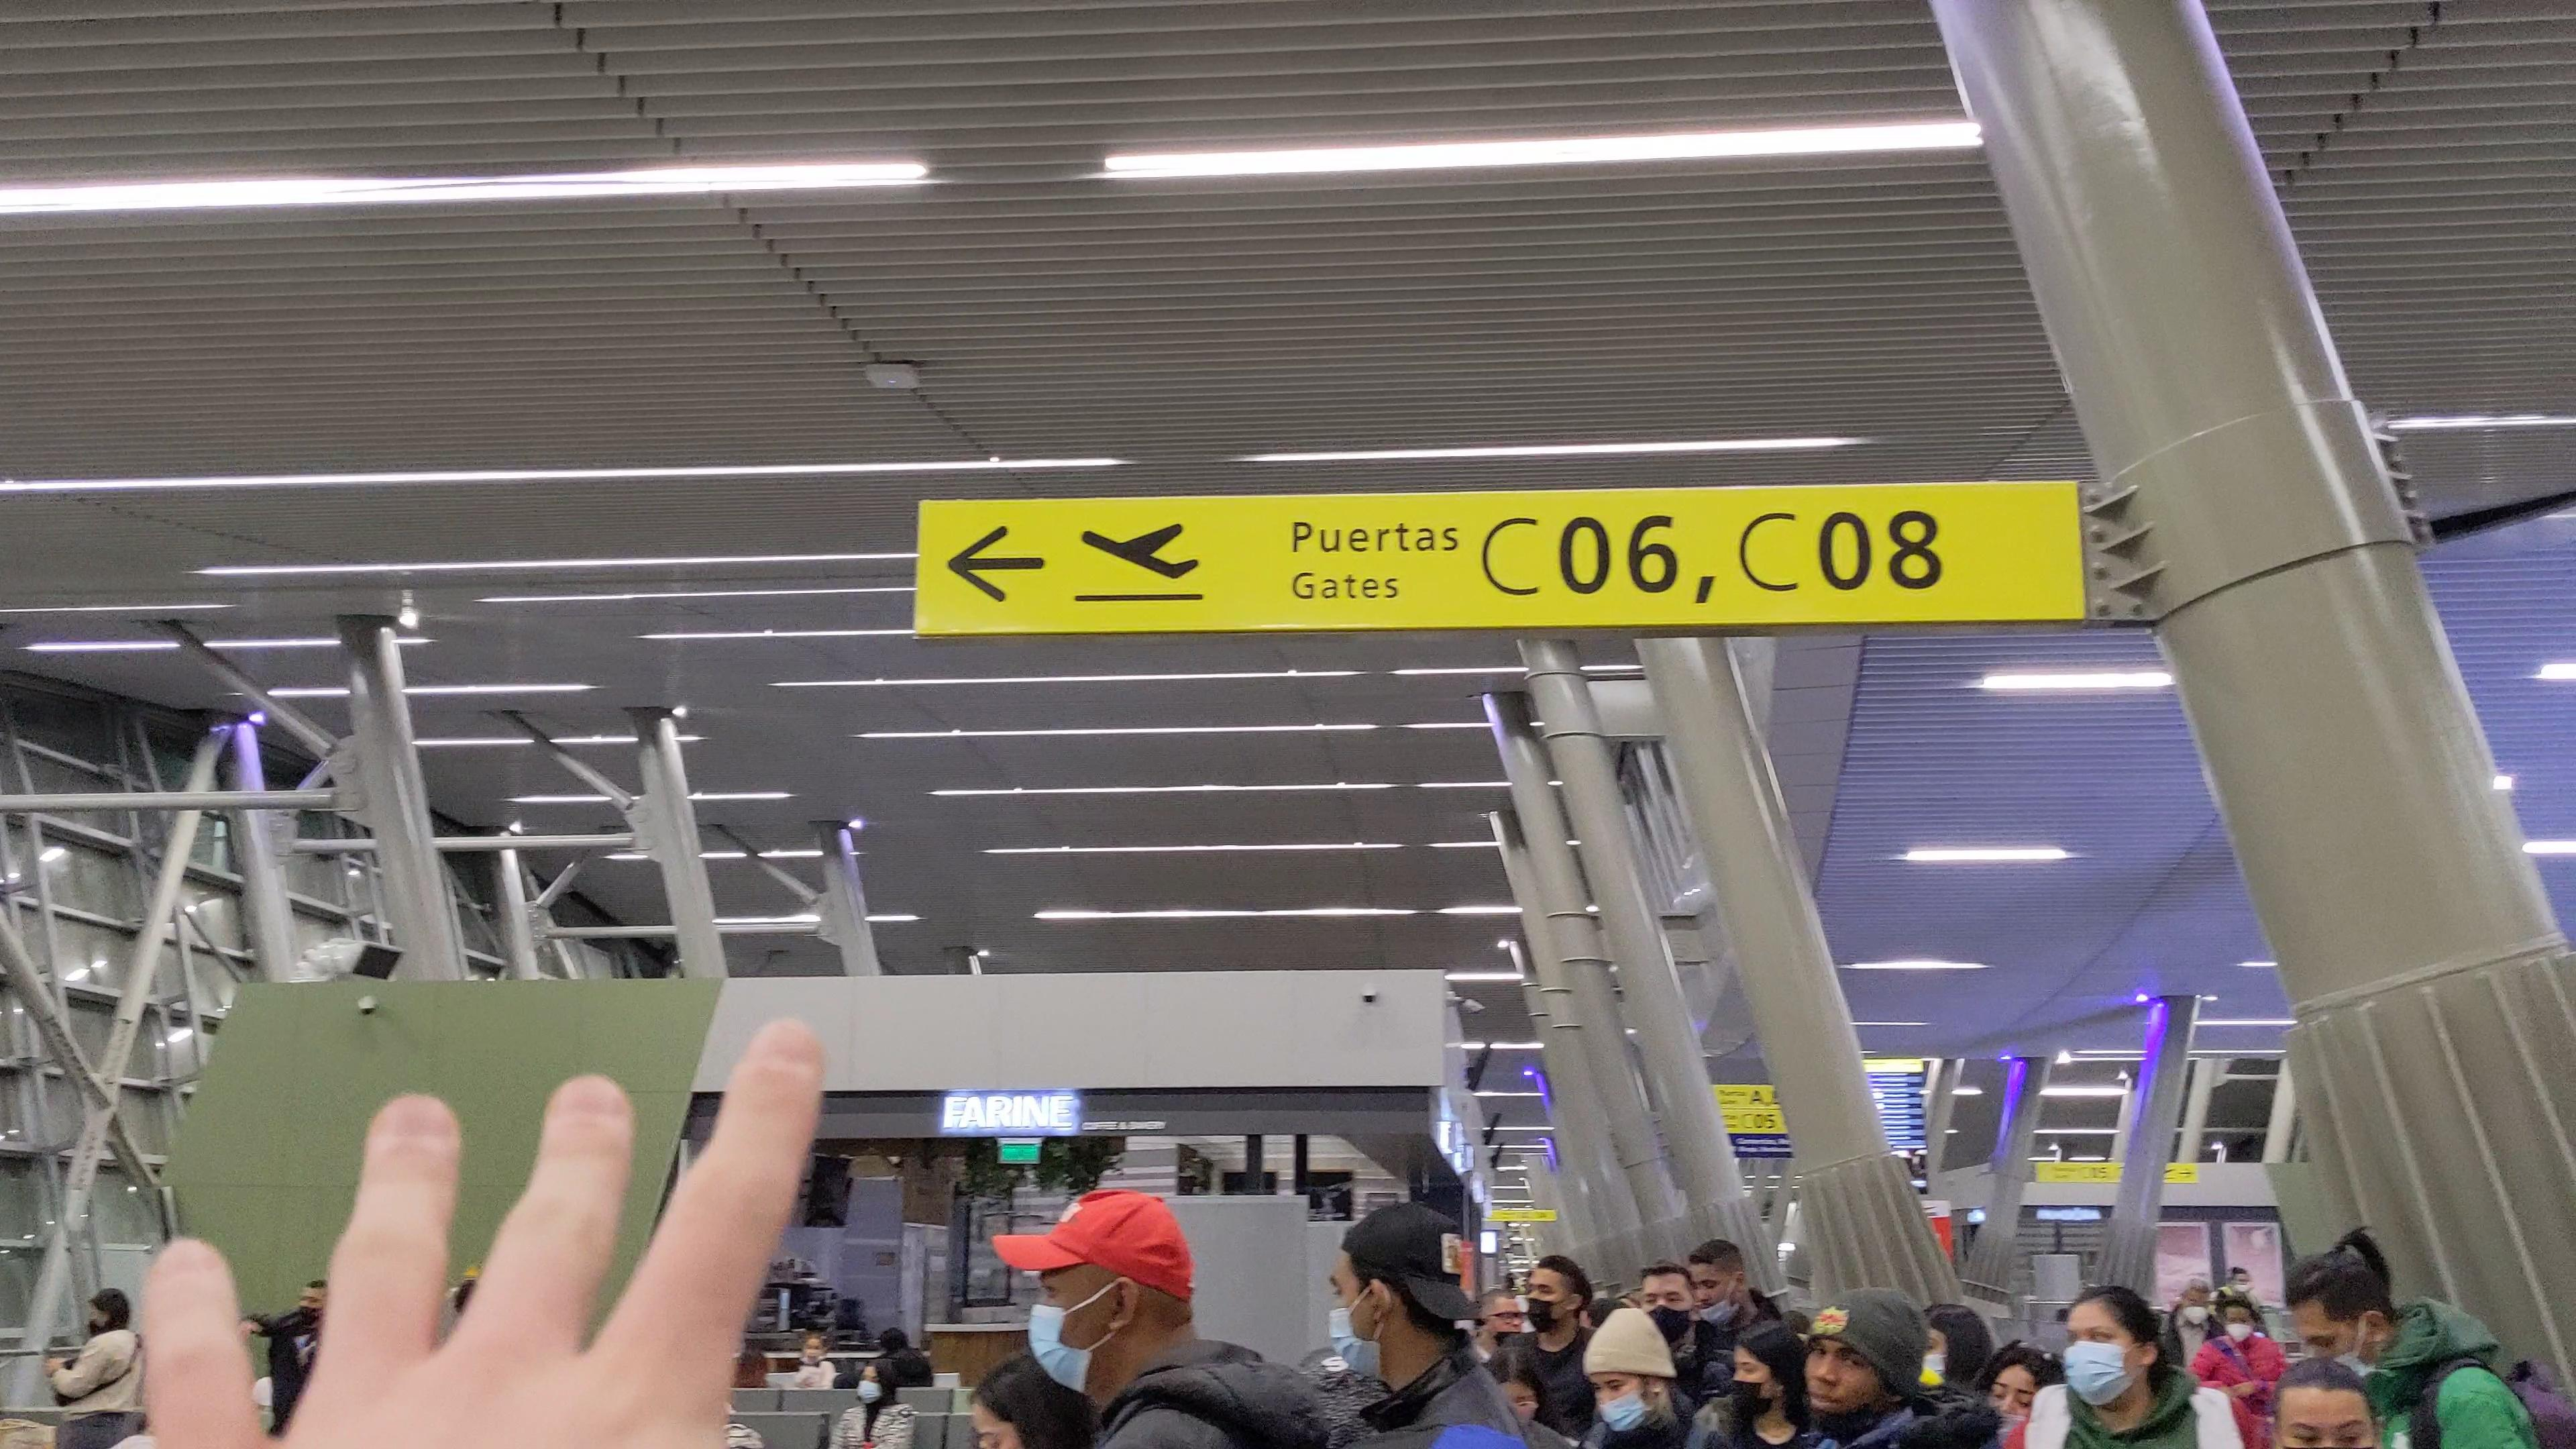airplane symbol: (1079, 517, 1205, 587)
thin left arrow: (938, 520, 1060, 607)
